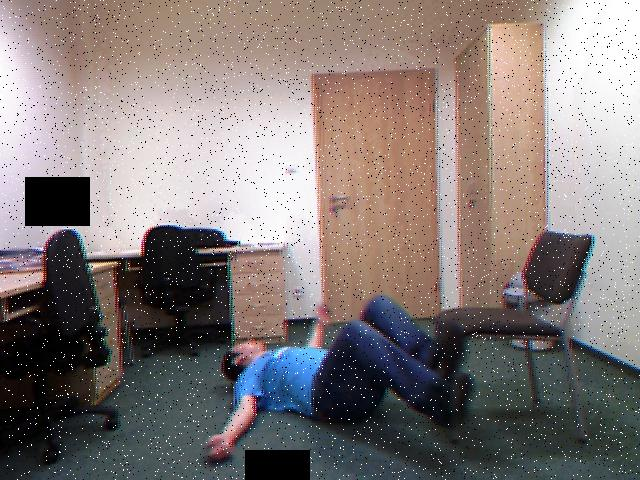fall: (204, 288, 484, 477)
